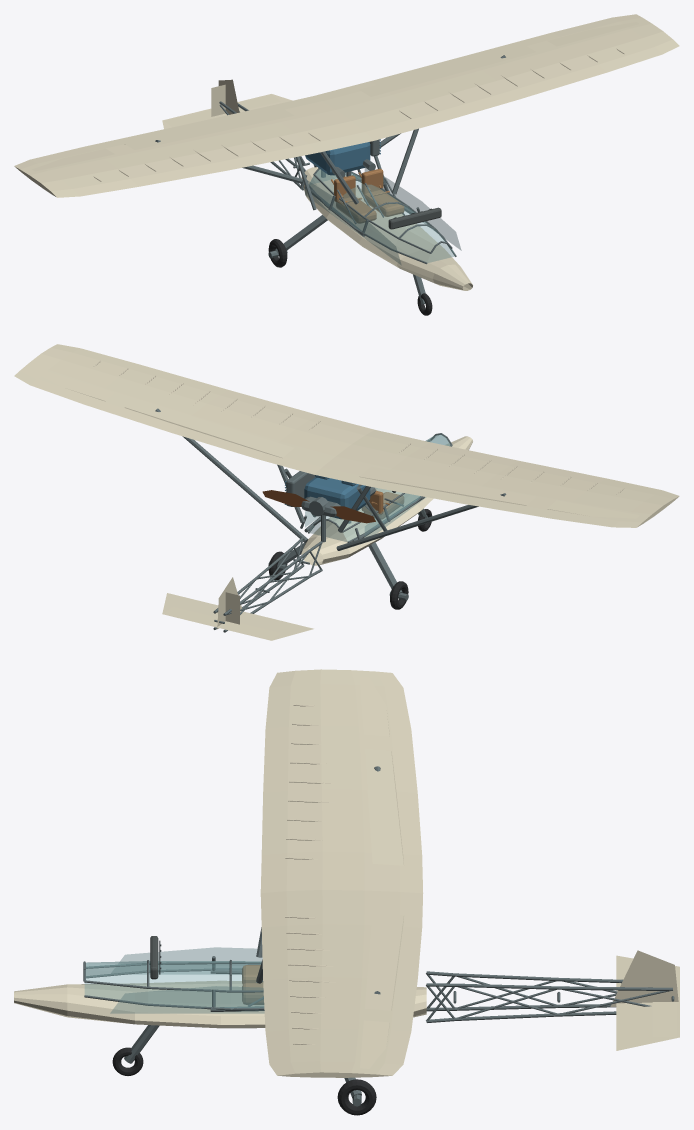
Rendered from rans_s12xl_source.glb.
The picture shows the model from 3 angles, top to bottom: view 1: azimuth 30°, elevation 25°; view 2: azimuth 150°, elevation 25°; view 3: azimuth 270°, elevation 25°; orthographic projection. The views are drawn at different scales.
Parts seen in each view (by area): view 1: High wing fabric · right panel, High wing fabric · left panel, Lower cabin pod and tapering tail fairing, Closed two-seat clear canopy, flap_L, Right cabin glazing, flap_R, Rotax 582 twin cylinder engine, Left cabin glazing, Elevator, aileron_L, Instrument panel (+4 smaller); view 2: High wing fabric · right panel, High wing fabric · left panel, Lower cabin pod and tapering tail fairing, flap_L, flap_R, Horizontal stabilizer, Closed two-seat clear canopy, Rotax 582 twin cylinder engine, Elevator, Main wing strut.001, aileron_L, Main wing strut (+3 smaller); view 3: High wing fabric · left panel, High wing fabric · right panel, Lower cabin pod and tapering tail fairing, Closed two-seat clear canopy, Left cabin glazing, flap_R, flap_L, Horizontal stabilizer, Vertical fin, Right cabin glazing, aileron_R, aileron_L (+2 smaller).
Part boxes in pixels (x1,y1,x2,y2): High wing fabric · right panel: (314, 14, 679, 140); High wing fabric · left panel: (14, 96, 374, 197); Lower cabin pod and tapering tail fairing: (301, 167, 472, 290); Closed two-seat clear canopy: (309, 169, 455, 262); flap_L: (359, 46, 535, 96); Right cabin glazing: (305, 180, 401, 264); flap_R: (125, 108, 293, 149); Rotax 582 twin cylinder engine: (305, 142, 370, 175); Left cabin glazing: (365, 168, 461, 250); Elevator: (164, 95, 280, 127); aileron_L: (547, 22, 639, 46); Instrument panel: (388, 207, 441, 229); High wing fabric · right panel: (14, 344, 374, 474); High wing fabric · left panel: (314, 430, 679, 527); Lower cabin pod and tapering tail fairing: (301, 436, 472, 565); flap_L: (124, 398, 294, 458); flap_R: (359, 466, 536, 505); Horizontal stabilizer: (162, 593, 313, 640); Closed two-seat clear canopy: (309, 434, 450, 541); Rotax 582 twin cylinder engine: (304, 477, 370, 519); Elevator: (164, 607, 280, 639); Main wing strut.001: (155, 408, 307, 542); aileron_L: (32, 368, 114, 401); Main wing strut: (336, 493, 506, 550); High wing fabric · left panel: (260, 669, 422, 893); High wing fabric · right panel: (260, 890, 422, 1077); Lower cabin pod and tapering tail fairing: (14, 980, 426, 1028); Closed two-seat clear canopy: (85, 961, 263, 1007); Left cabin glazing: (110, 986, 264, 1013); flap_R: (365, 748, 403, 865); flap_L: (365, 913, 403, 1010); Horizontal stabilizer: (616, 955, 679, 1050); Vertical fin: (610, 950, 678, 1006); Right cabin glazing: (120, 947, 262, 974); aileron_R: (360, 676, 389, 736); aileron_L: (360, 1020, 389, 1068).
Bounding box in the file's own units: 9.45 × 2.24 × 6.6.
